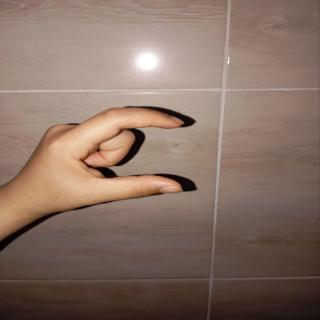DELL: (14, 99, 211, 224)
